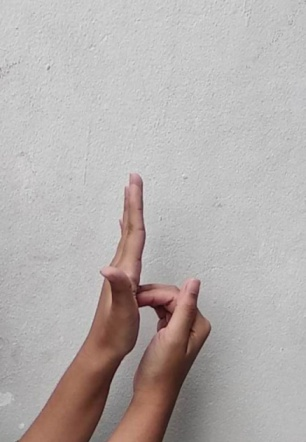ga: (87, 172, 214, 389)
